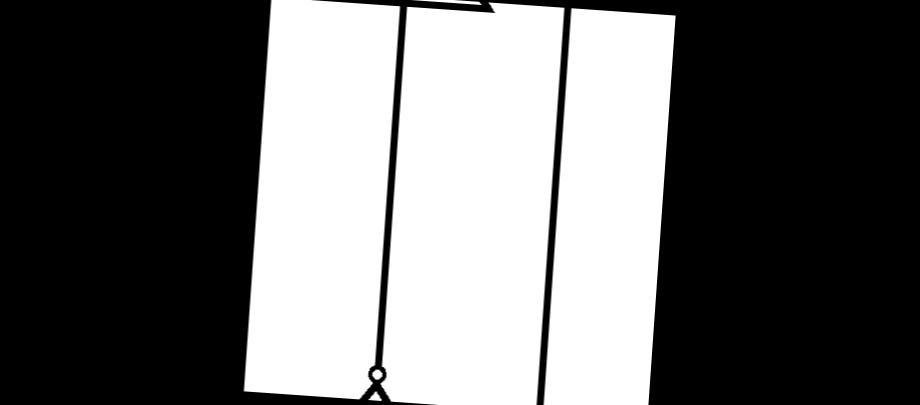not: (275, 346, 477, 405)
